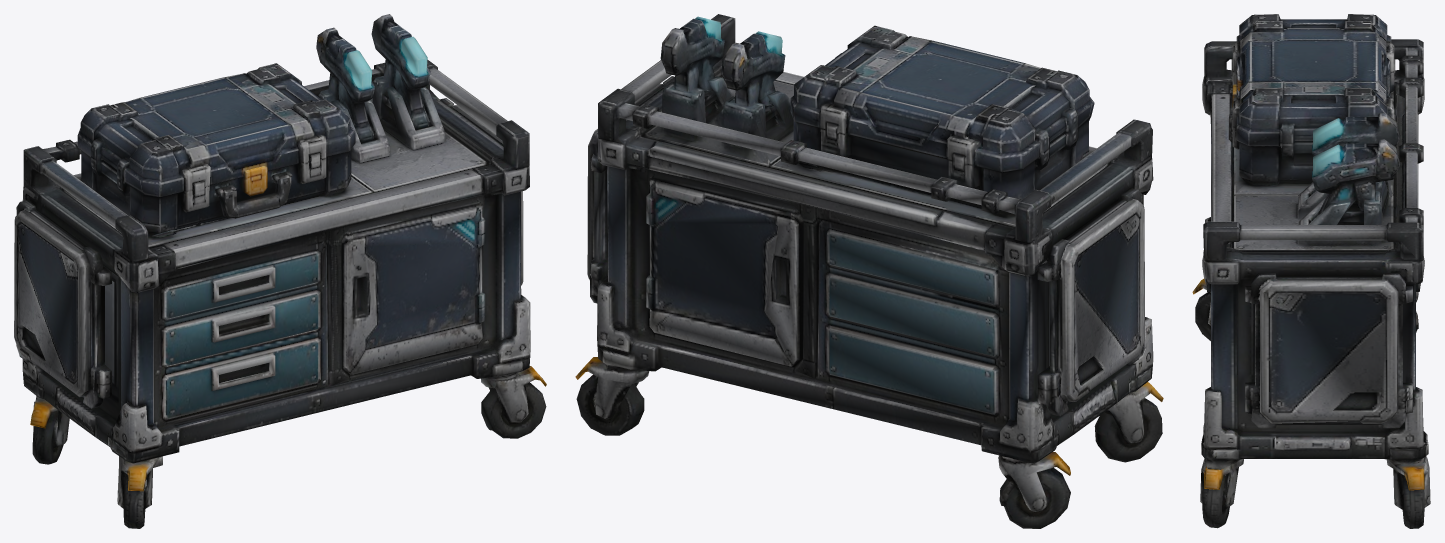
Rendered from tripo_convert_3551cec0-36df-4f5c-89e6-92c921944d29.fbx.
3 views of the same model, side by side, from view 1: azimuth 30°, elevation 25°; view 2: azimuth 150°, elevation 25°; view 3: azimuth 270°, elevation 25° (orthographic). The views are drawn at different scales.
Visible parts, largest first — view 1: tripo_node_3551cec0; view 2: tripo_node_3551cec0; view 3: tripo_node_3551cec0.
Boxes of the visible parts, x1,y1,x2,y2 form: tripo_node_3551cec0: (14,14,546,528); tripo_node_3551cec0: (575,14,1163,528); tripo_node_3551cec0: (1192,14,1430,528).
Bounding box in the file's own units: 97.76 × 46.49 × 78.25.
1 material, 1 textured.
